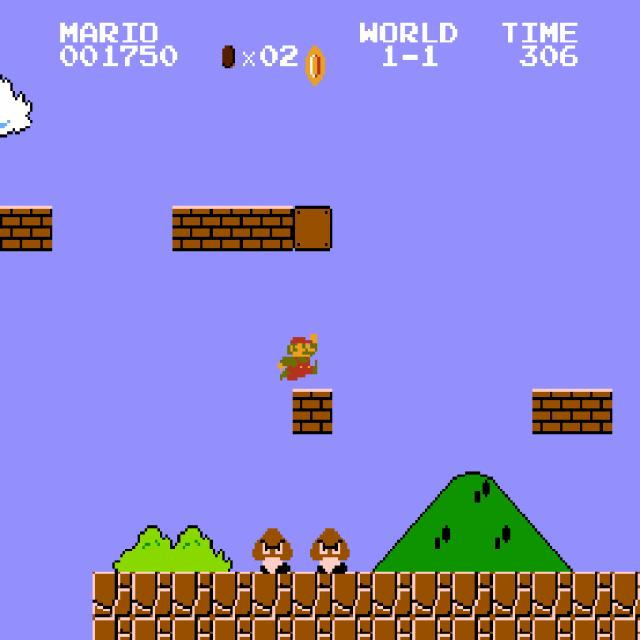brick_block: (12, 206, 53, 251), (172, 206, 213, 251), (212, 206, 253, 251), (252, 206, 293, 251), (292, 389, 333, 434), (532, 389, 573, 434), (572, 389, 613, 434), (0, 206, 13, 251)
goomba: (250, 526, 293, 574), (307, 526, 350, 574)
little_mario: (275, 331, 318, 380)
undestructible_block: (92, 572, 133, 617), (132, 572, 173, 617), (172, 572, 213, 617), (212, 572, 253, 617), (252, 572, 293, 617), (292, 572, 333, 617), (332, 572, 373, 617), (372, 572, 413, 617), (412, 572, 453, 617), (452, 572, 493, 617), (492, 572, 533, 617), (532, 572, 573, 617), (572, 572, 613, 617), (612, 572, 640, 617), (92, 617, 133, 640), (132, 617, 173, 640), (172, 617, 213, 640), (212, 617, 253, 640), (252, 617, 293, 640), (292, 617, 333, 640), (332, 617, 373, 640), (372, 617, 413, 640), (412, 617, 453, 640), (452, 617, 493, 640), (492, 617, 533, 640), (532, 617, 573, 640), (572, 617, 613, 640), (612, 617, 640, 640)
